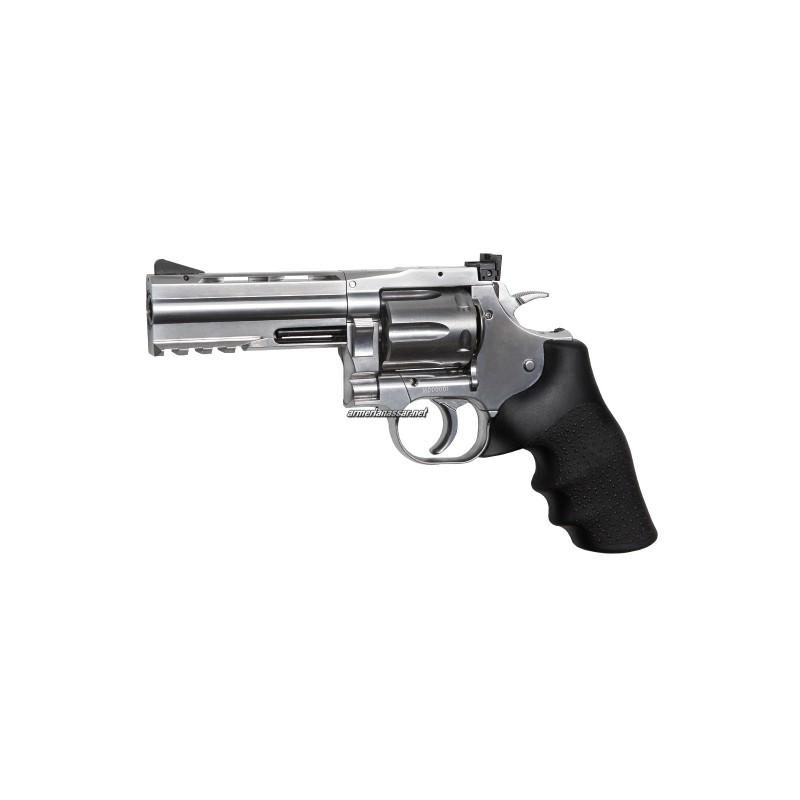Revolver: (107, 201, 698, 580)
